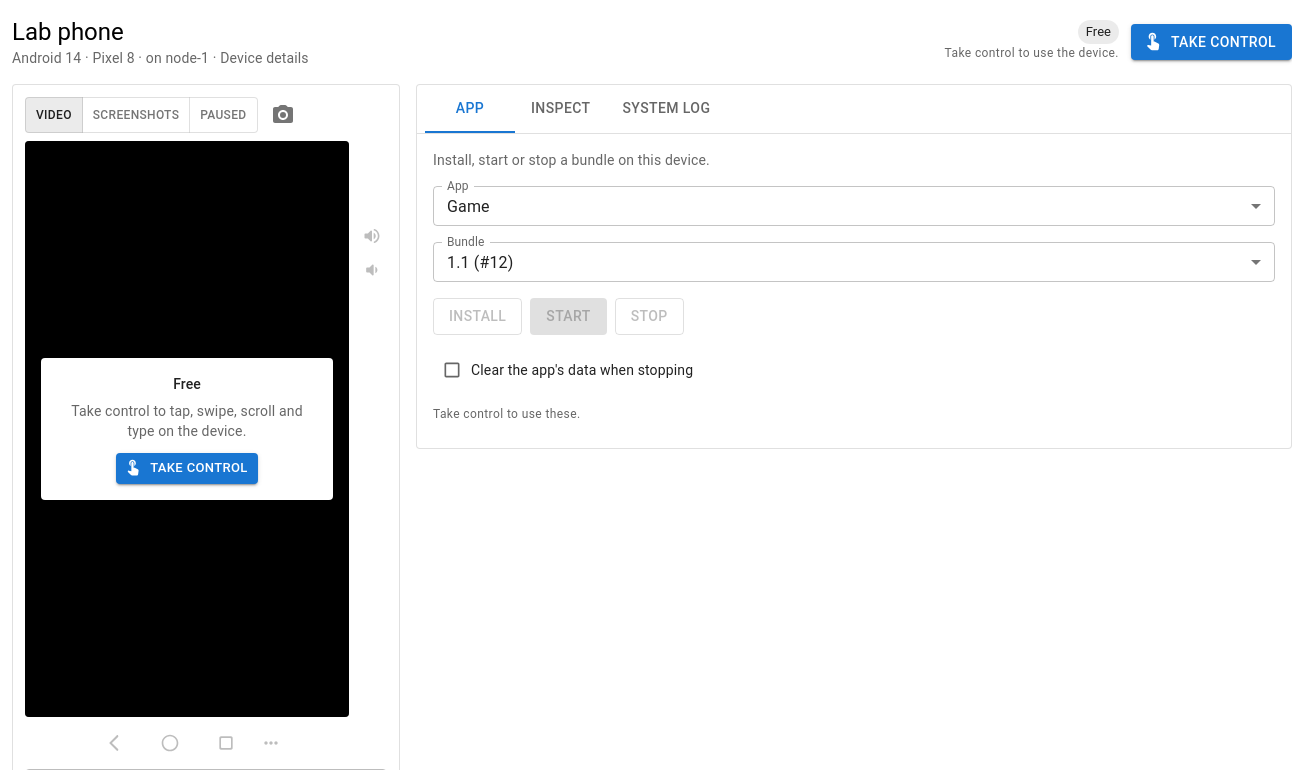
Test: the control page: the scene graph › shows a missing app in the tab and leads to the App tab
Expected: the heading "Lab phone" is shown, x1=12 y1=18 x2=124 y2=46
Click the tab "Inspect" at {"x": 561, "y": 109}, box x1=515 y1=85 x2=606 y2=133
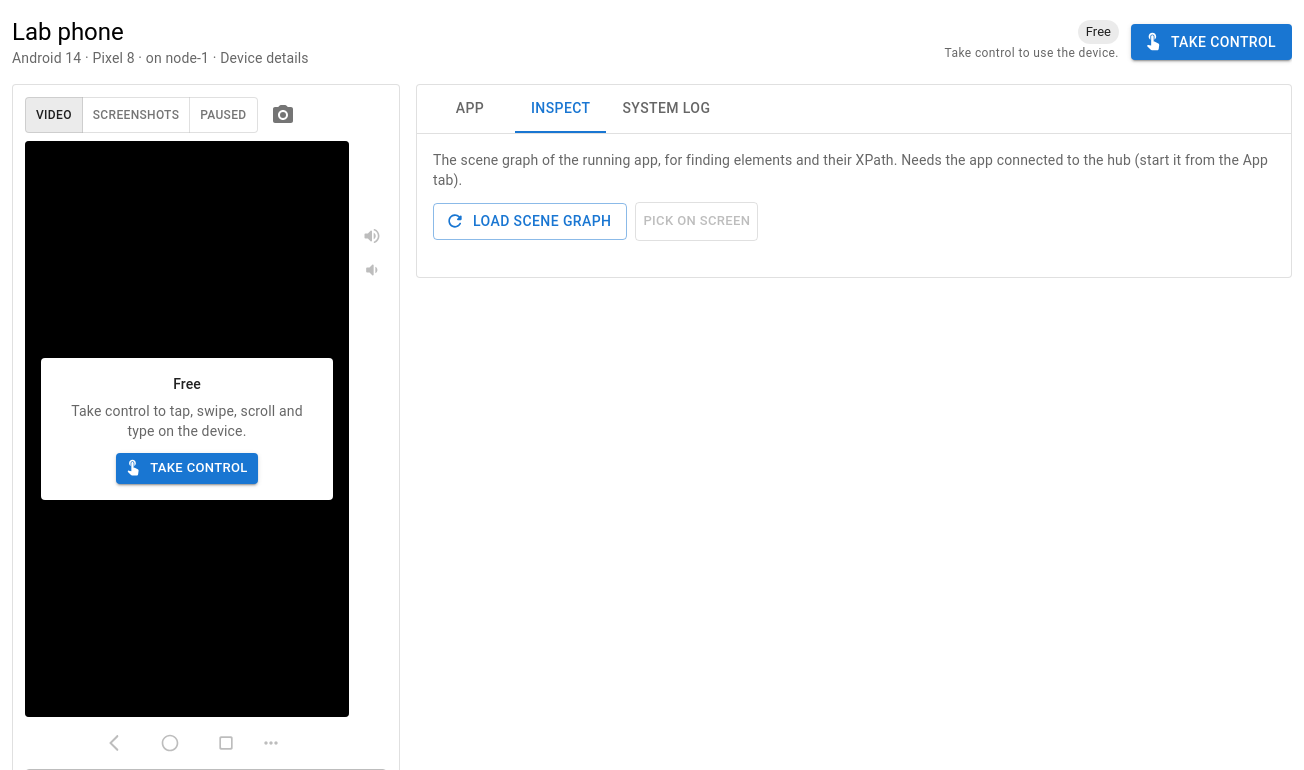
Click the button "Load scene graph" at {"x": 530, "y": 221}, box x1=433 y1=203 x2=627 y2=240
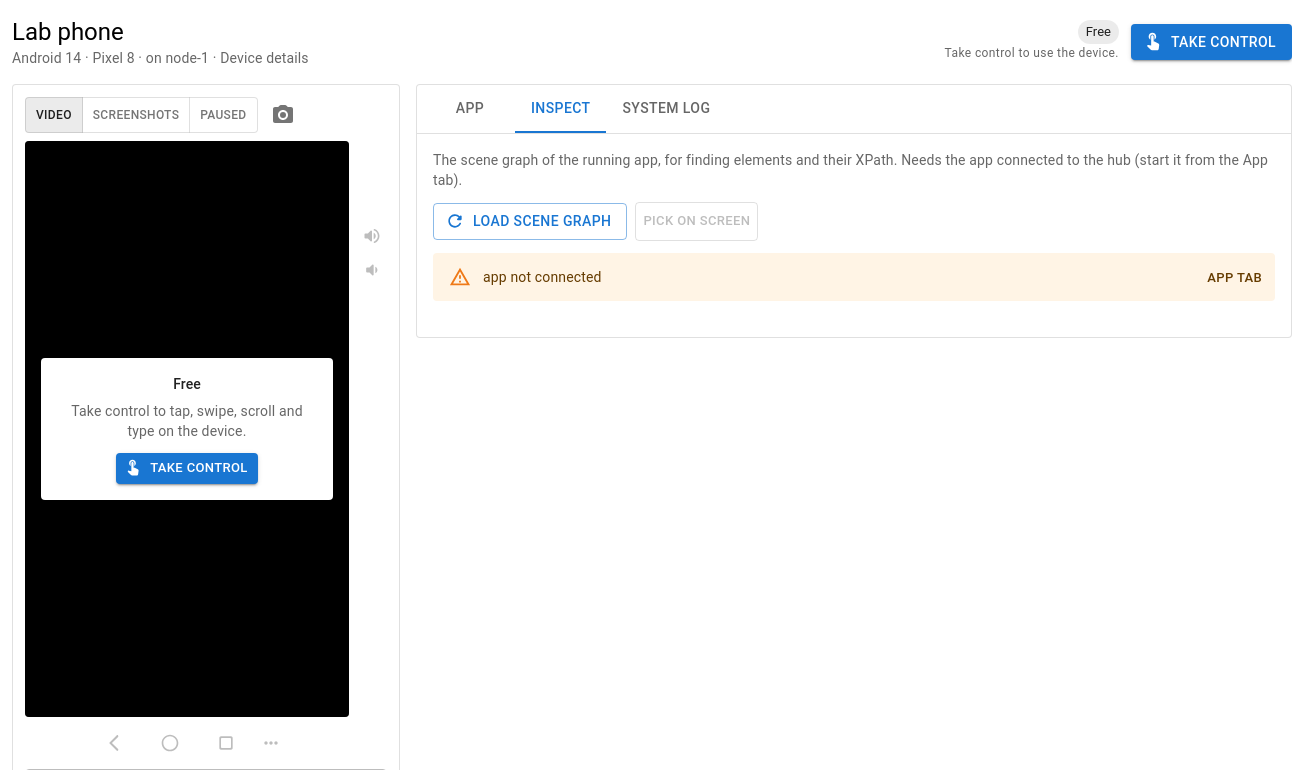
Expected: the text "app not connected" is shown, x1=483 y1=269 x2=602 y2=285
Expected: the number of messages is 1, x1=433 y1=253 x2=1275 y2=301
Click the button "App tab" at {"x": 1235, "y": 278}, box x1=1202 y1=263 x2=1267 y2=294
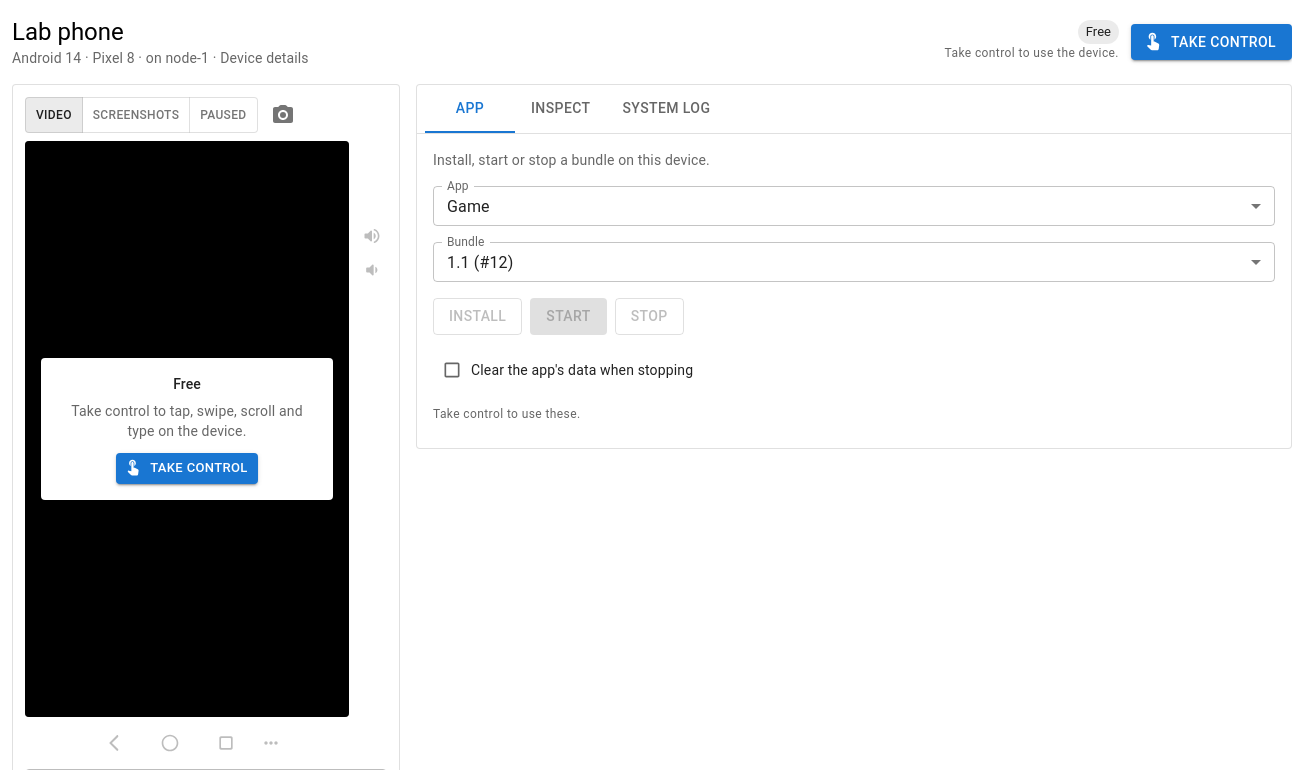
Expected: the text "Install, start or stop a bundle on this device." is shown, x1=433 y1=152 x2=710 y2=168
